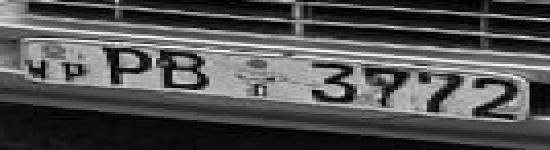2: (470, 76, 521, 120)
3: (307, 62, 358, 105)
7: (361, 66, 412, 108), (414, 71, 464, 113)
B: (160, 48, 218, 95)
P: (98, 43, 158, 87), (59, 60, 90, 83)
W: (23, 57, 55, 80)
